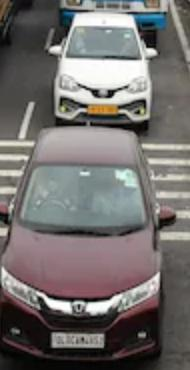car: (4, 121, 171, 359), (51, 10, 161, 119)
